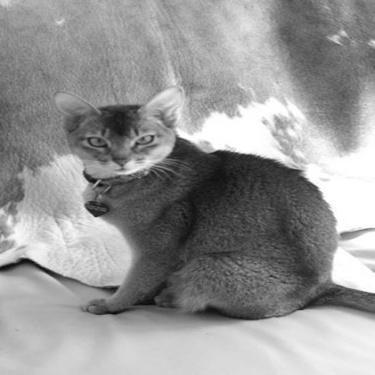cat: (55, 86, 370, 321)
